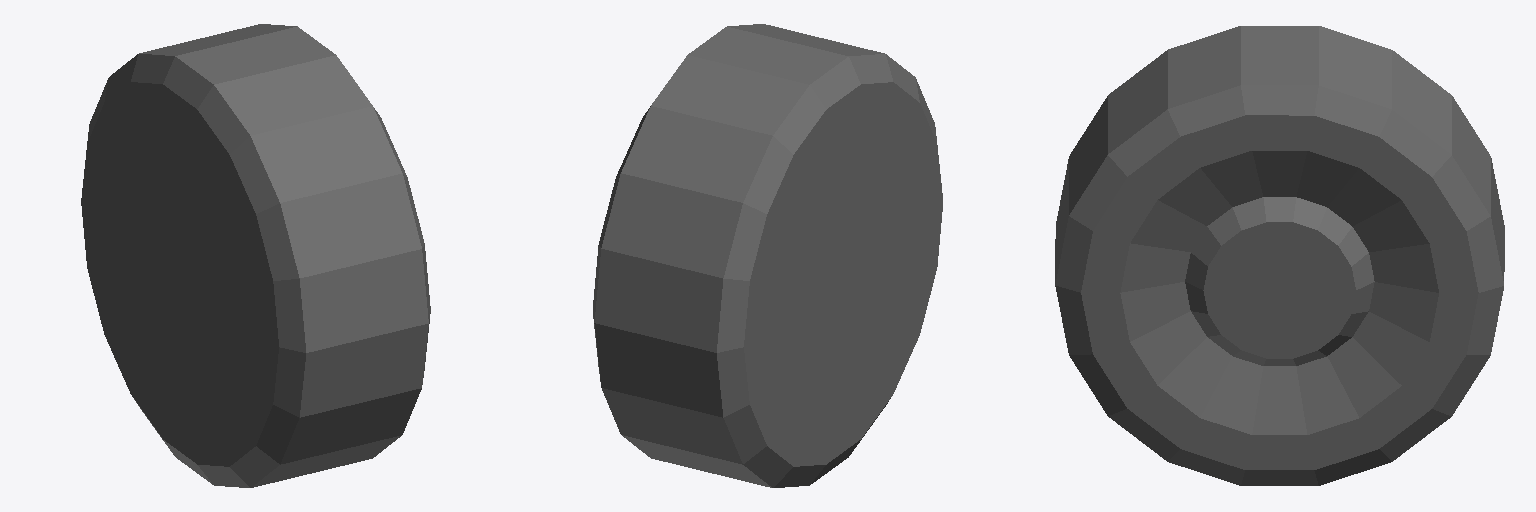
Rendered from flatbed_wheel.obj.
3 views of the same model, side by side, from view 1: azimuth 30°, elevation 25°; view 2: azimuth 150°, elevation 25°; view 3: azimuth 270°, elevation 25° (orthographic).
Visible parts, largest first — view 1: Object008_Untitled.025; view 2: Object008_Untitled.025; view 3: Object008_Untitled.025.
Boxes of the visible parts, box(x1,y1,x2,y2) form: Object008_Untitled.025: box(81, 24, 430, 487); Object008_Untitled.025: box(593, 24, 942, 487); Object008_Untitled.025: box(1055, 26, 1504, 485).
Bounding box in the file's own units: 0.7973 × 2.01 × 2.04.